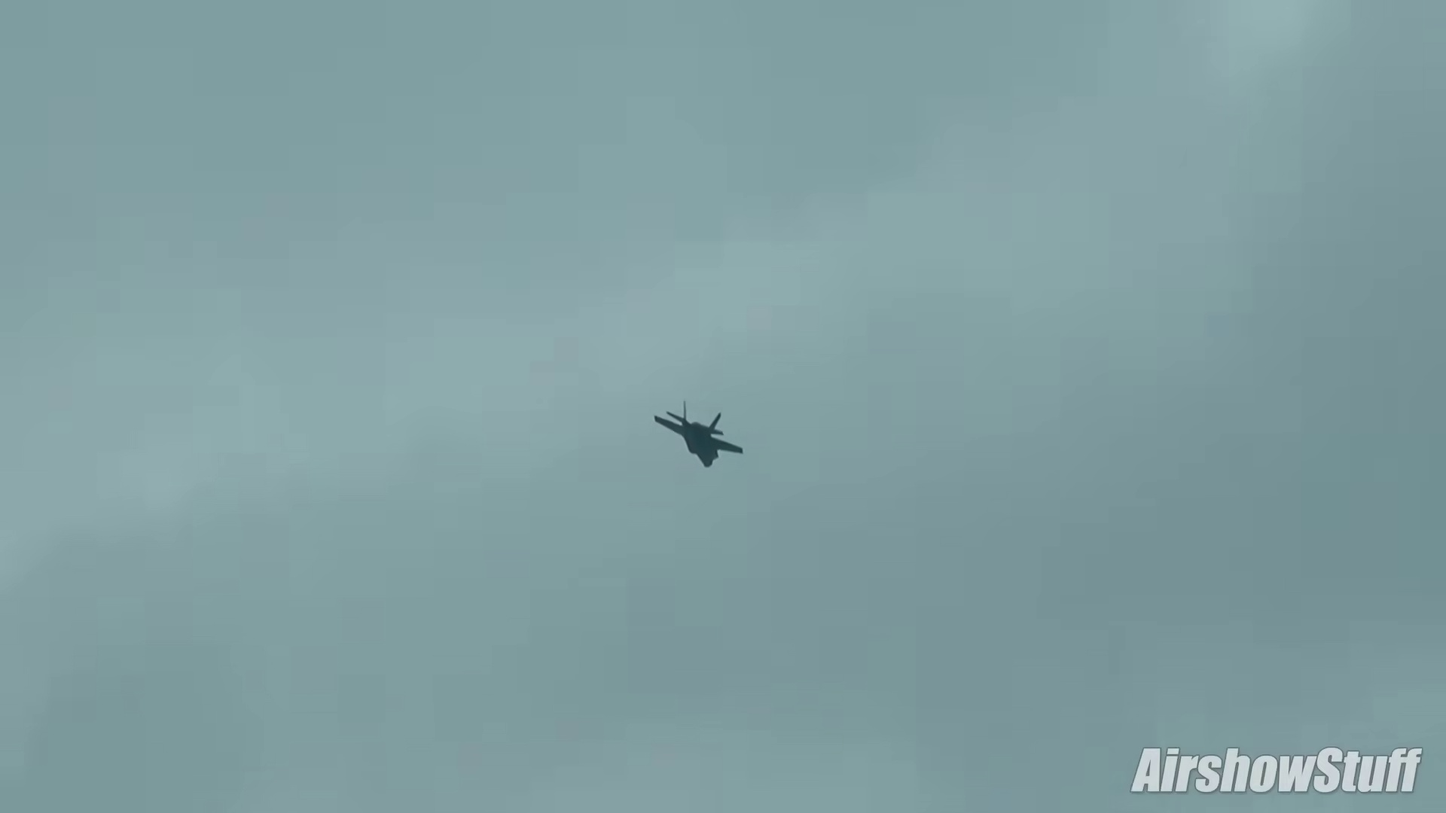F35: (646, 390, 751, 474)
